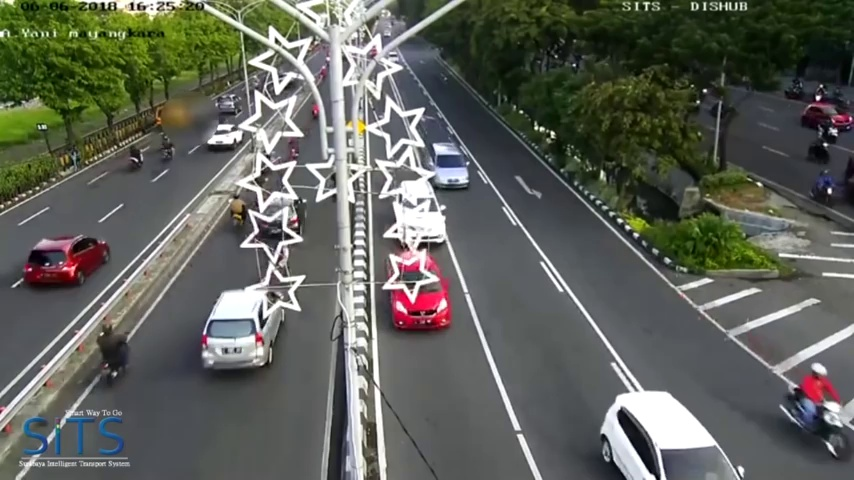car: (598, 385, 749, 480), (205, 284, 286, 372), (389, 253, 454, 334), (25, 236, 105, 288), (427, 138, 470, 193), (800, 100, 854, 133), (208, 116, 242, 150), (215, 91, 239, 114)
motorbike: (780, 362, 850, 463), (98, 323, 134, 387), (811, 170, 838, 211), (227, 192, 247, 238), (807, 132, 832, 166), (159, 135, 175, 163), (127, 144, 143, 171)
